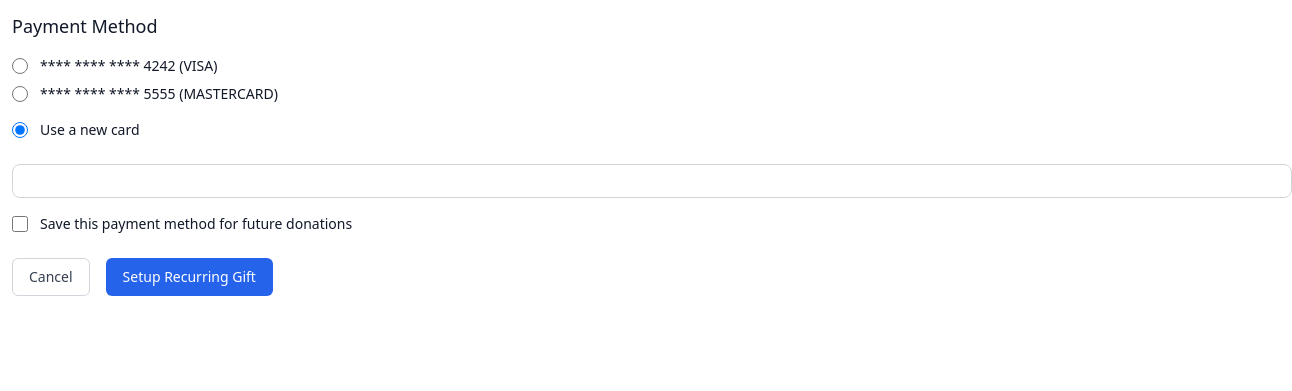
Scenario: PaymentForm › Recurring Payment Setup › should handle recurring setup errors
The width and height of the screenshot is (1292, 391).
Click the button "Setup Recurring Gift" at (189,277), box [106, 258, 273, 296]
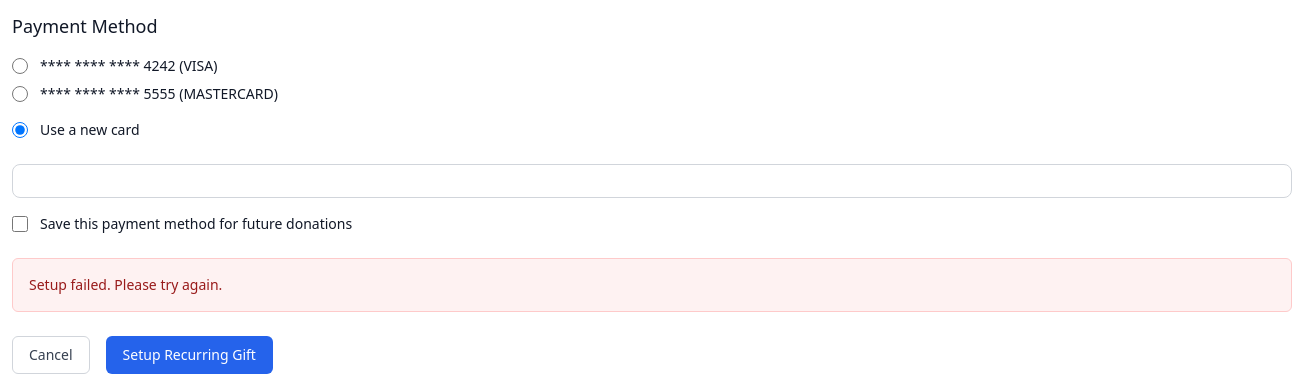
Expected: the text "Setup failed. Please try again." is shown, [29, 275, 222, 294]
